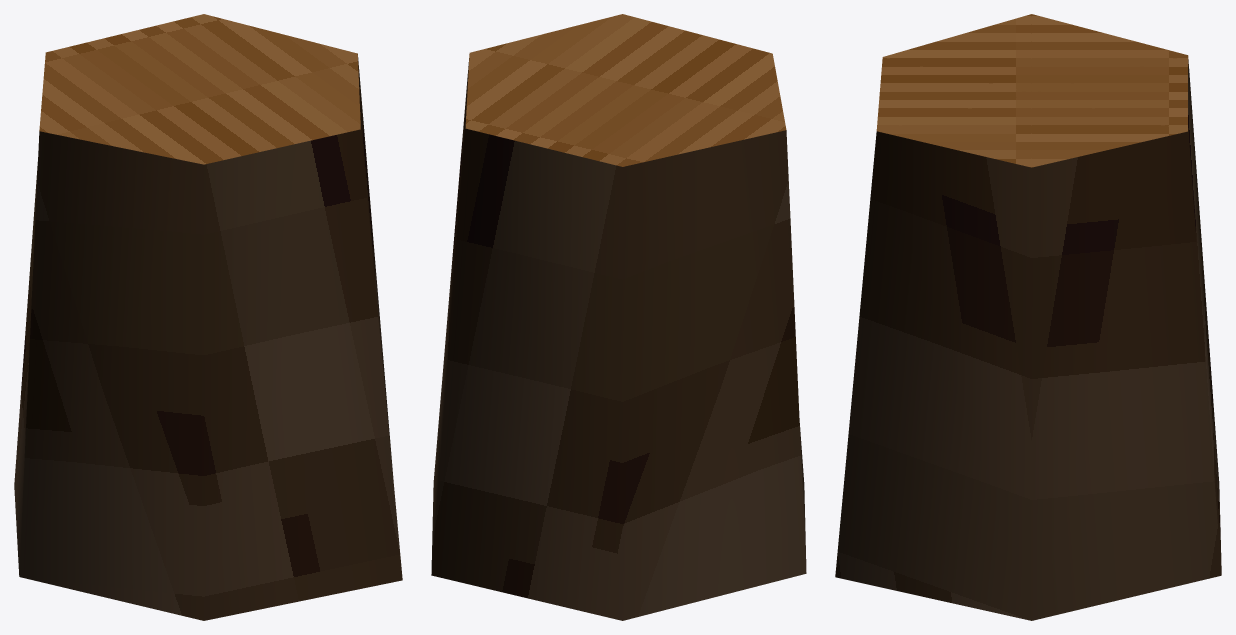
The model's file is stump02_update-lod2.glb.
The picture shows the model from 3 angles, left to right: view 1: azimuth 30°, elevation 25°; view 2: azimuth 150°, elevation 25°; view 3: azimuth 270°, elevation 25°; orthographic projection.
Parts seen in each view (by area): view 1: TZ_stump_Batch_00_LOD2, TZ_stump_Batch_01_LOD2; view 2: TZ_stump_Batch_00_LOD2, TZ_stump_Batch_01_LOD2; view 3: TZ_stump_Batch_00_LOD2, TZ_stump_Batch_01_LOD2.
Boxes of the visible parts, x1=… form: TZ_stump_Batch_00_LOD2: x1=14, y1=57, x2=402, y2=620; TZ_stump_Batch_01_LOD2: x1=39, y1=14, x2=360, y2=164; TZ_stump_Batch_00_LOD2: x1=431, y1=58, x2=806, y2=620; TZ_stump_Batch_01_LOD2: x1=465, y1=14, x2=786, y2=166; TZ_stump_Batch_00_LOD2: x1=835, y1=59, x2=1221, y2=620; TZ_stump_Batch_01_LOD2: x1=876, y1=14, x2=1188, y2=167.
Size of the model in its own units: 0.5871 by 0.66 by 0.5304.
2 materials, 2 textured.
